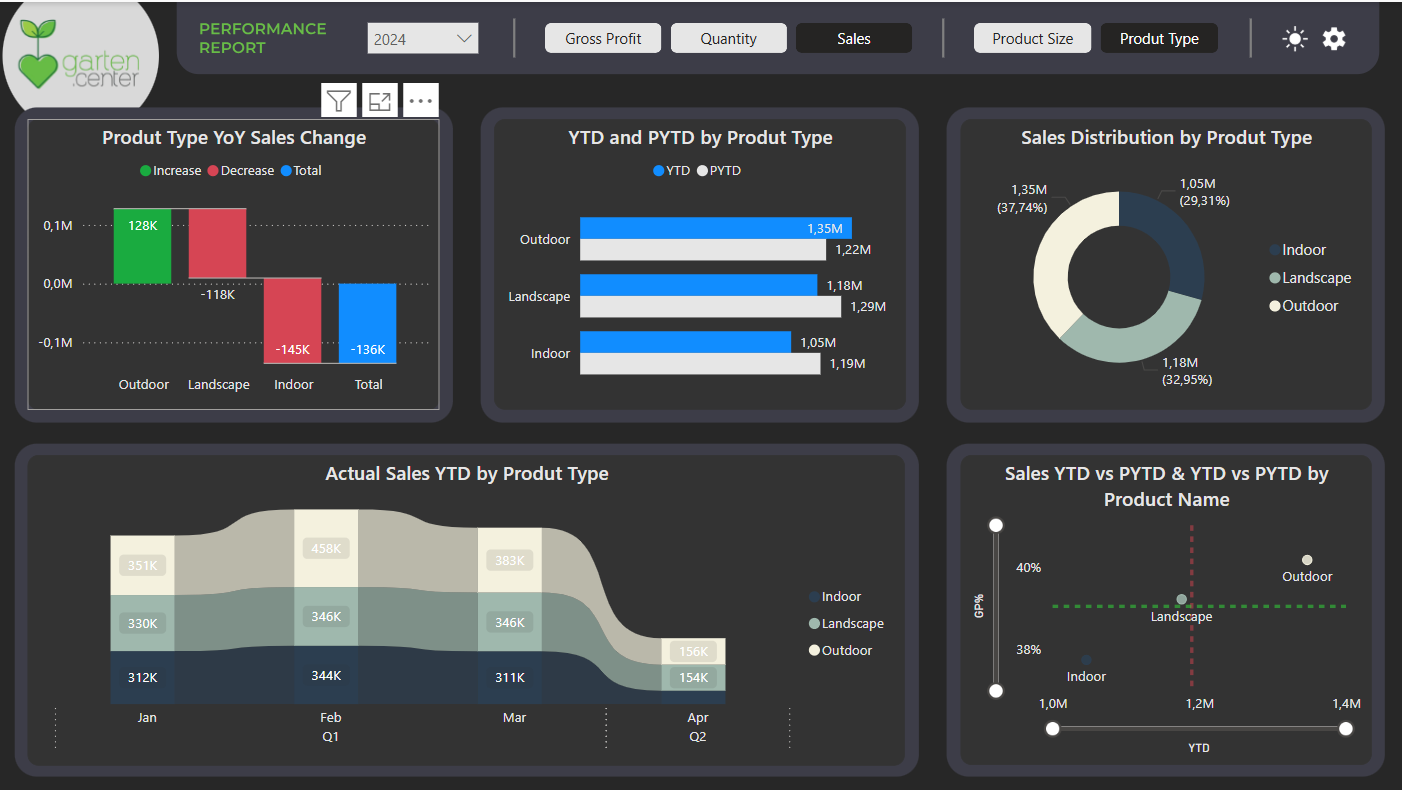

The page's visual inventory and layout, read from the dashboard file:
{"tool":"powerbi","page":{"name":"Product Size / Type","canvas":[1280,720],"ordinal":5},"visuals":[{"type":"slicer","fields":{"Values":["Dim_Date.Year"]},"box":[337.9,13.5,109.5,35.1],"z":0},{"type":"advancedSlicerVisual","title":"KPIs","fields":{"Values":["prmValues.Values"]},"box":[502.3,18.9,332.5,27],"z":1000},{"type":"waterfallChart","fields":{"Category":["Dim_Product.Produt_Type"],"Y":["_Measures.YTD vs PYTD"]},"box":[37,105,371,262],"z":2000},{"type":"advancedSlicerVisual","fields":{"Values":["prmDimensions.prmDimensions"]},"box":[889.7,18.9,221.7,27],"z":3000},{"type":"donutChart","fields":{"Series":["Dim_Product.Produt_Type"],"Y":["_Measures.YTD"]},"box":[877.3,105,370.4,262.2],"z":4000},{"type":"clusteredBarChart","fields":{"Category":["Dim_Product.Produt_Type"],"Y":["_Measures.YTD","_Measures.PYTD"]},"box":[457,105,371,262.2],"z":5000},{"type":"ribbonChart","fields":{"Series":["Dim_Product.Produt_Type"],"Category":["Dim_Date.Quarter","Dim_Date.Month"],"Y":["_Measures.YTD"]},"box":[36.5,408,790.8,279.8],"z":6000},{"type":"scatterChart","fields":{"Category":["Dim_Product.Produt_Type"],"Series":["Dim_Product.Produt_Type"],"Y":["_Measures.GP%"],"X":["_Measures.YTD"]},"box":[877.3,408,370.4,279],"z":7000},{"type":"shape","box":[471.5,14.9,6.8,35.1],"z":8000},{"type":"shape","box":[858.9,14.9,6.8,35.1],"z":9000},{"type":"shape","box":[1135.4,14.9,6.8,35.1],"z":10000},{"type":"image","box":[1161.7,12.9,35,39],"z":11000},{"type":"image","box":[1195.7,12.9,35,39],"z":12000}]}

Visuals, with their boxes in screenshot pixels (x1, y1, x2, y2), scaled from the page's 1280x720 canvas onto the 1402x790 screenshot:
slicer - Dim_Date.Year: <bbox>370, 15, 490, 53</bbox>
"KPIs" advancedSlicerVisual: <bbox>550, 21, 914, 50</bbox>
waterfallChart - Dim_Product.Produt_Type x _Measures.YTD vs PYTD: <bbox>41, 115, 447, 403</bbox>
advancedSlicerVisual - prmDimensions.prmDimensions: <bbox>974, 21, 1217, 50</bbox>
donutChart - Dim_Product.Produt_Type x _Measures.YTD: <bbox>961, 115, 1367, 403</bbox>
clusteredBarChart - Dim_Product.Produt_Type x _Measures.YTD: <bbox>501, 115, 907, 403</bbox>
ribbonChart - Dim_Product.Produt_Type x Dim_Date.Quarter: <bbox>40, 448, 906, 755</bbox>
scatterChart - Dim_Product.Produt_Type x Dim_Product.Produt_Type: <bbox>961, 448, 1367, 754</bbox>
shape: <bbox>516, 16, 524, 55</bbox>
shape: <bbox>941, 16, 948, 55</bbox>
shape: <bbox>1244, 16, 1251, 55</bbox>
image: <bbox>1272, 14, 1311, 57</bbox>
image: <bbox>1310, 14, 1348, 57</bbox>
